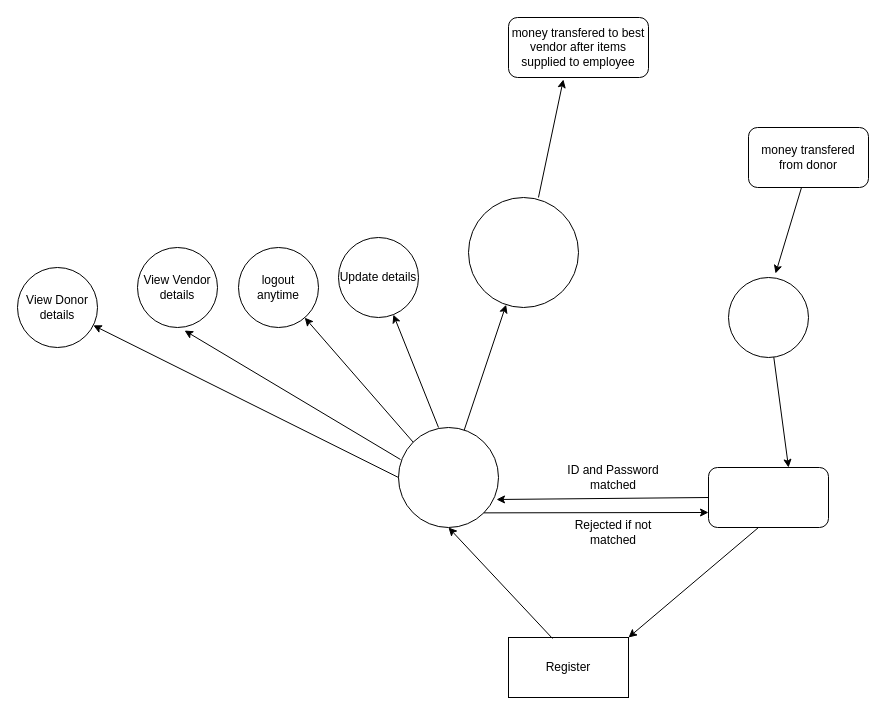
The diagram is 886 pixels wide and 715 high, and some of its shapes have lost their labels. The centre of each missing label's shape, as x and y in pixels:
"Bank transaction" goes at (x=768, y=317).
"Employee" goes at (x=768, y=497).
"Employee will generate 5 cards for top 5 bidders" goes at (x=523, y=252).
"Login" goes at (x=448, y=477).
